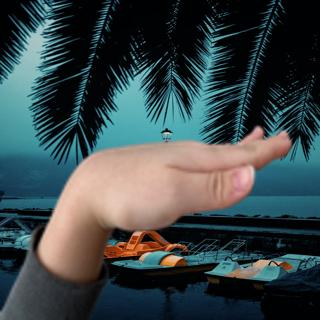Wait: (50, 120, 297, 237)
